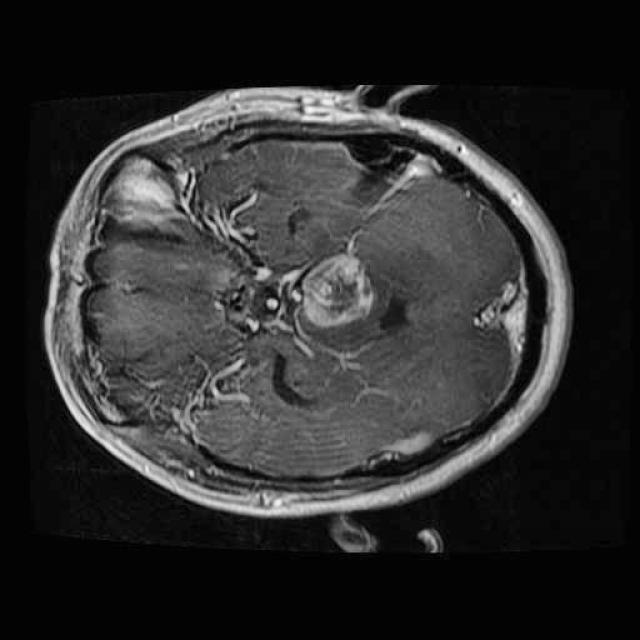Non-Tumor: (289, 236, 384, 345)
